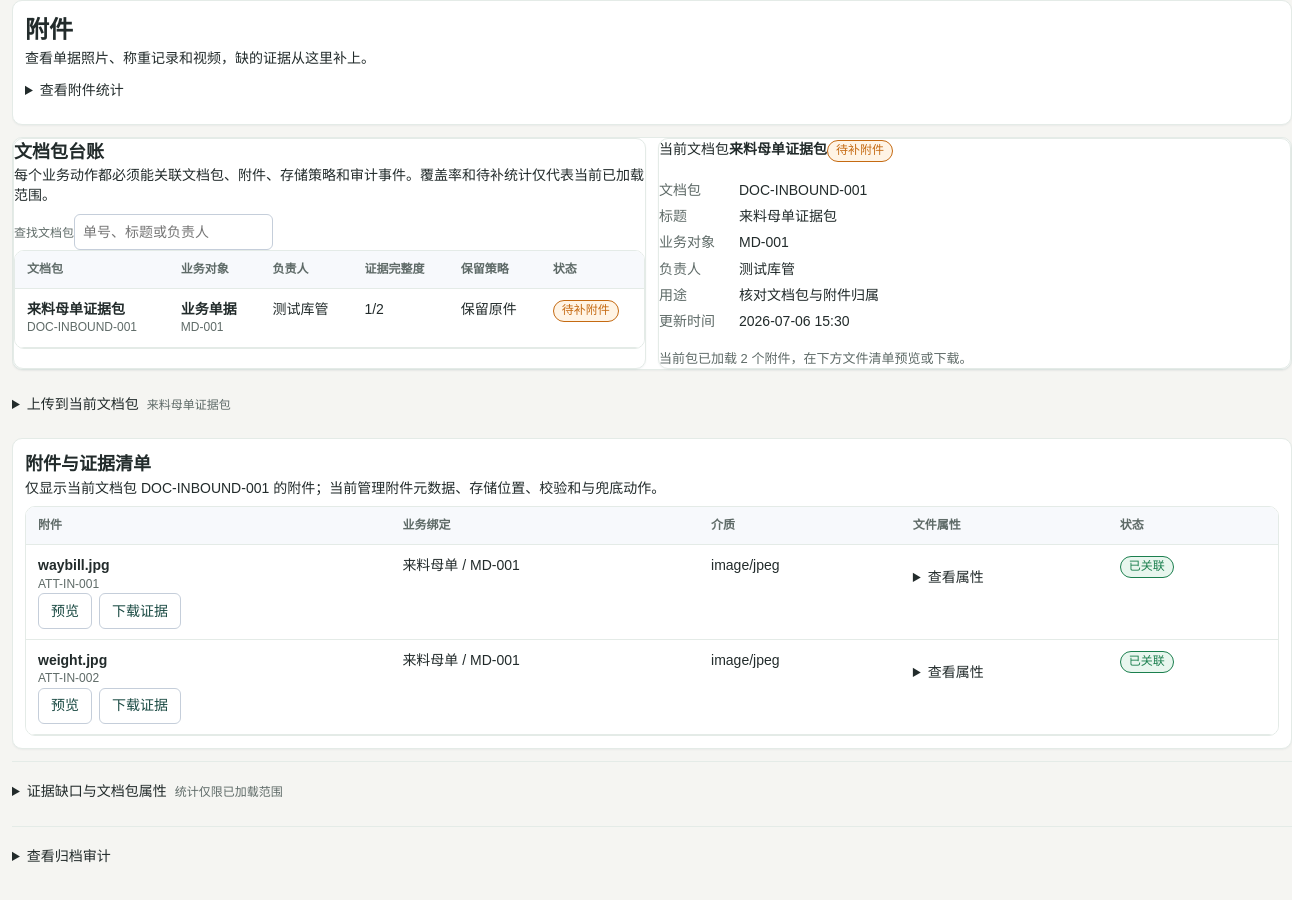
it: DocumentManagementWorkspace › 新关键词的结果优先，迟到的旧请求不能覆盖台账
In the field named "查找文档包": (174, 232) [74, 214, 273, 250], type "慢查询"
Wait 280 ms
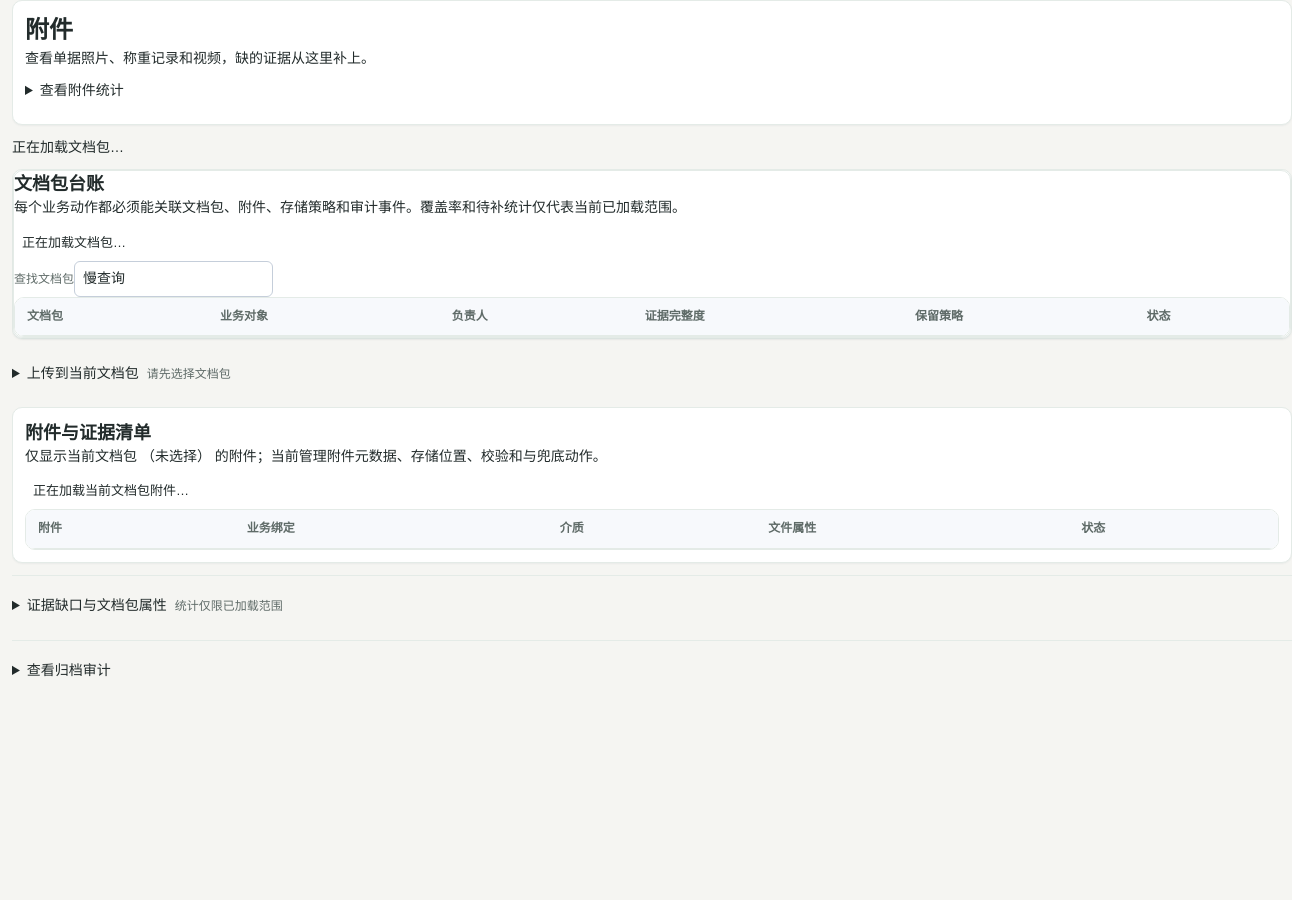
Replace the text in the field named "查找文档包" with "快速查询": (174, 279) [74, 261, 273, 297]
Wait 280 ms
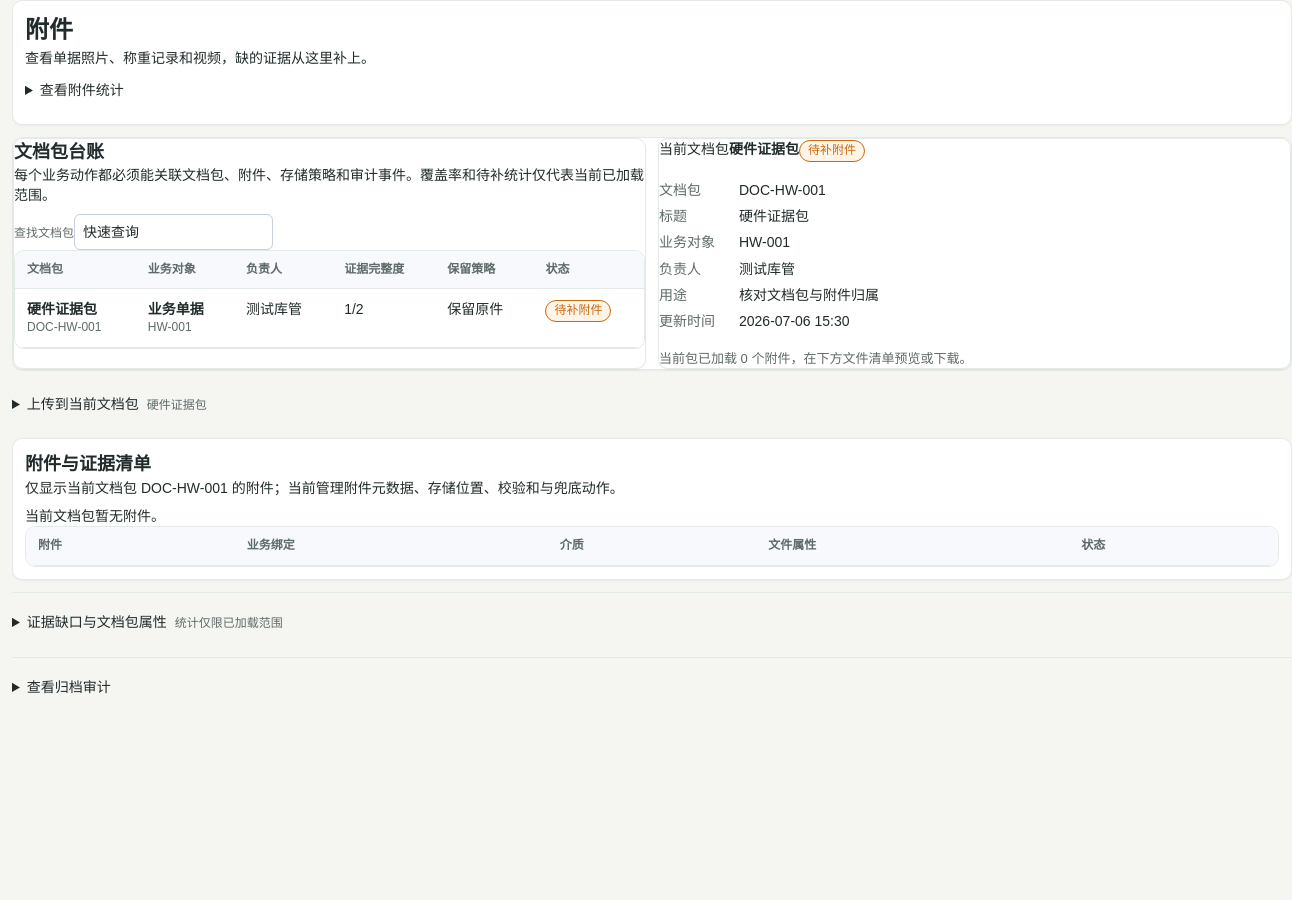
Now the element with class "document-master" shows "DOC-HW-001", box [27, 320, 102, 334]
